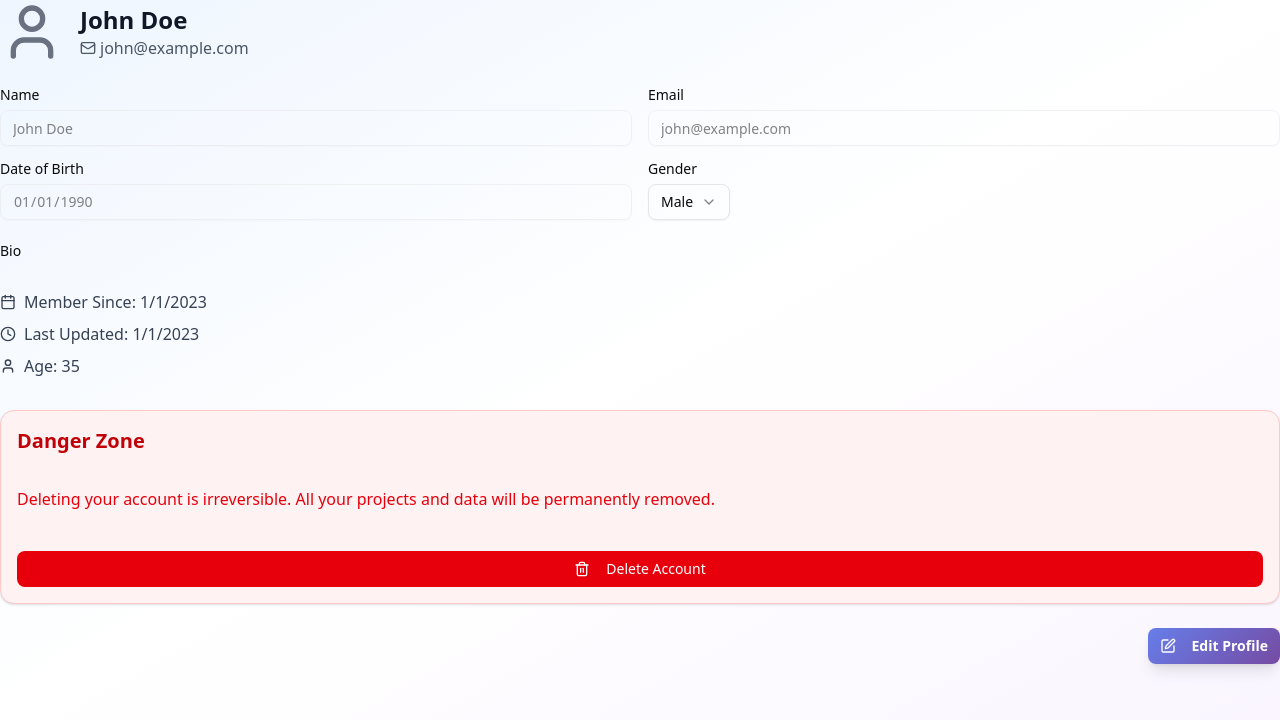
Test case: ProfileEditForm Component › handles API errors
Note: Enter edit mode and submit
Click the button "Edit Profile".
click(1214, 646)  # box [1148, 628, 1279, 664]
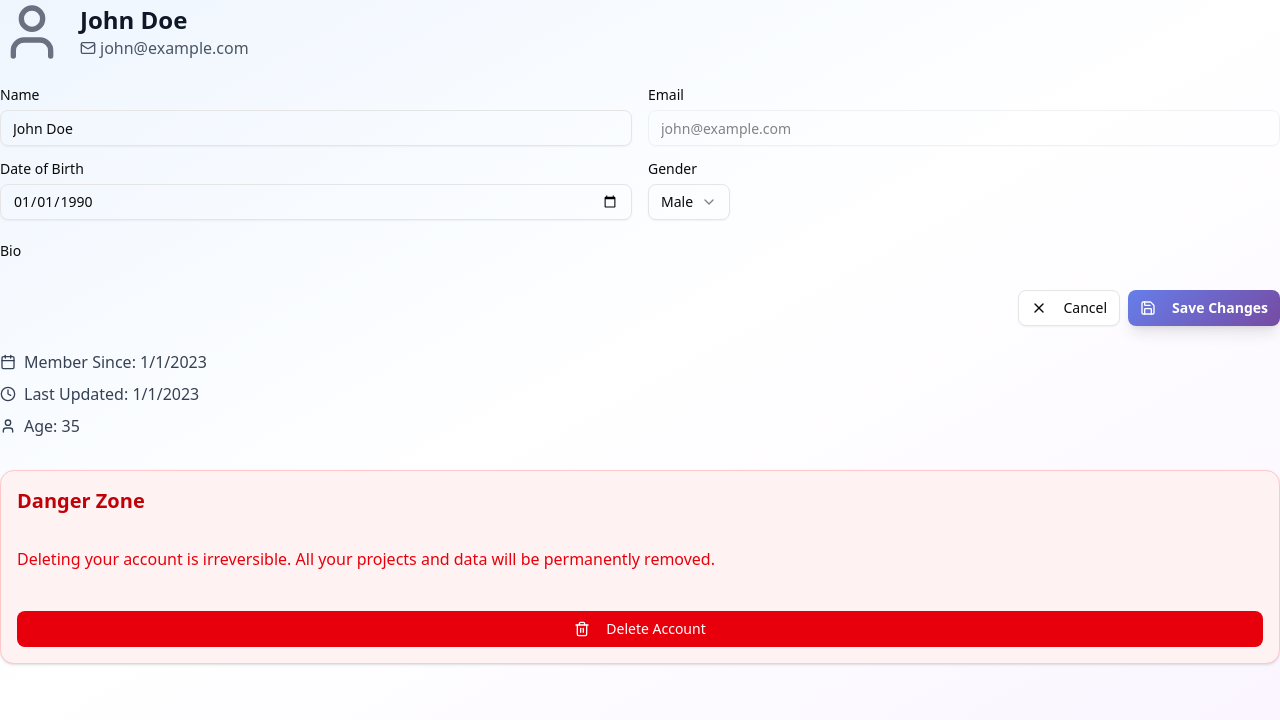
Click the button "Save Changes".
click(1204, 308)  # box [1128, 290, 1279, 326]
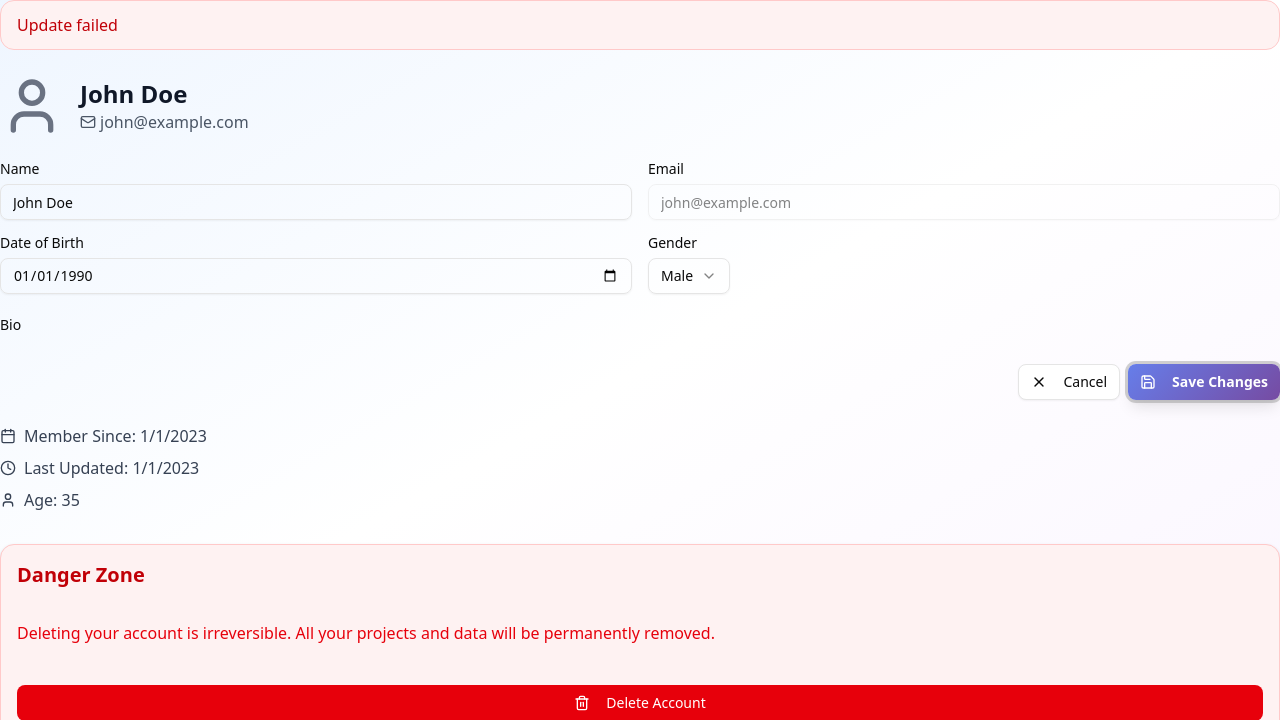
Expected: the text "Update failed" is shown, [0, 0, 1279, 50]
